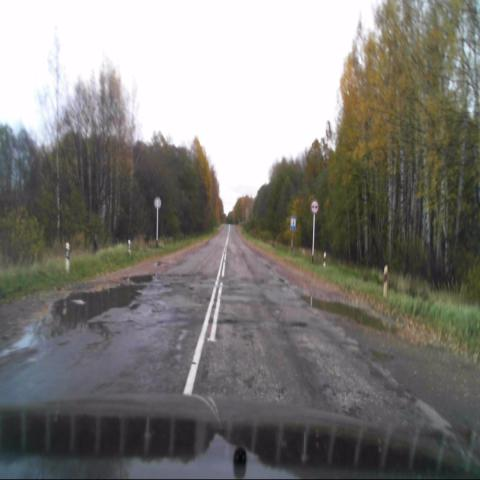3_20: (311, 199, 319, 213)
7_11: (290, 215, 296, 231)
